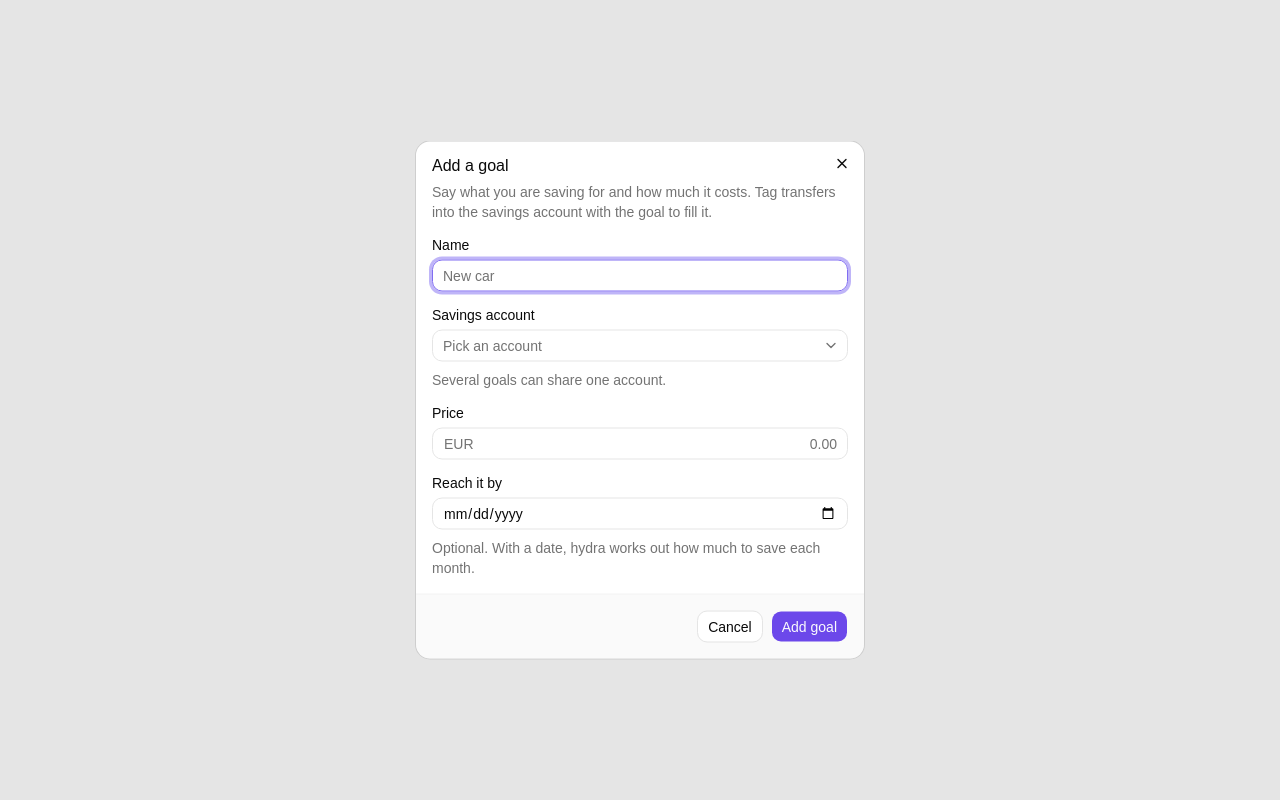
Test: adding a goal › offers only savings accounts
The width and height of the screenshot is (1280, 800).
Click the dropdown named "Savings account": [492, 346] box x1=432 y1=330 x2=848 y2=362
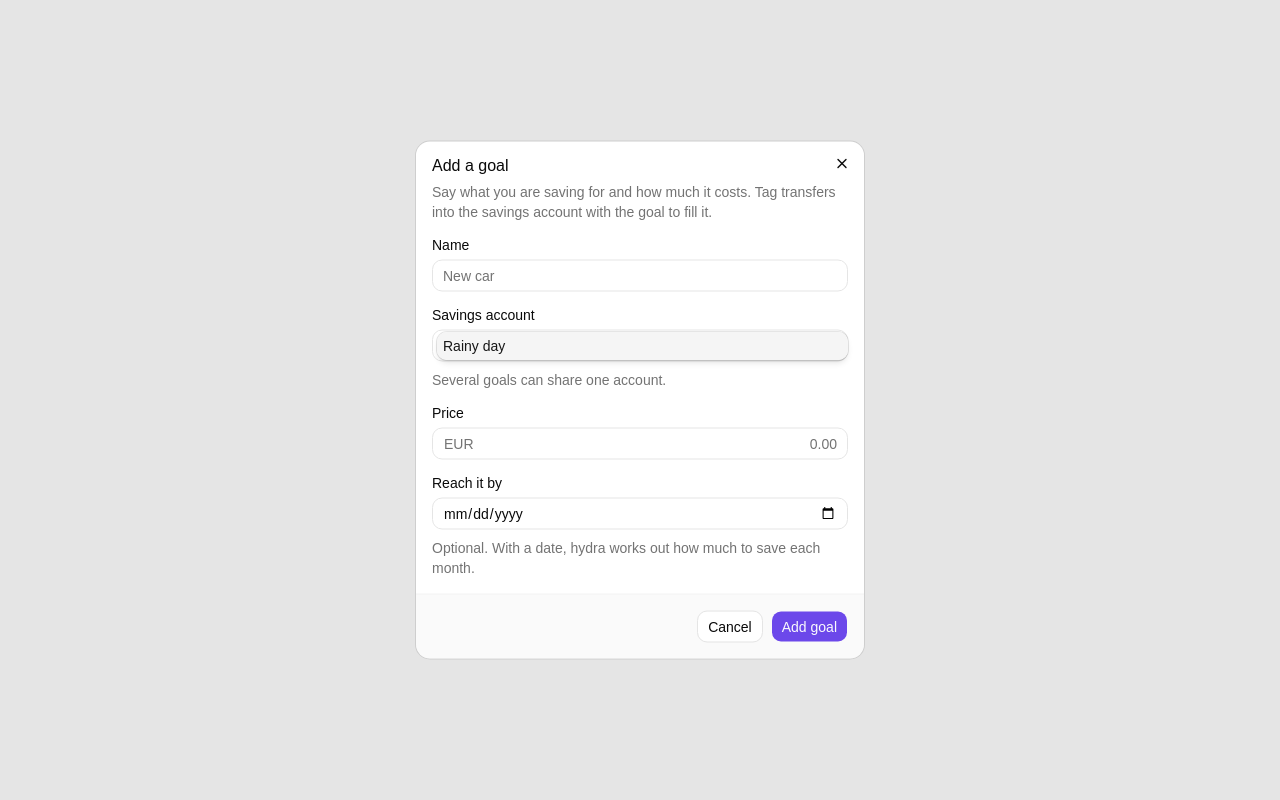
Expected: the option "Rainy day" is shown, x1=437 y1=332 x2=848 y2=360
